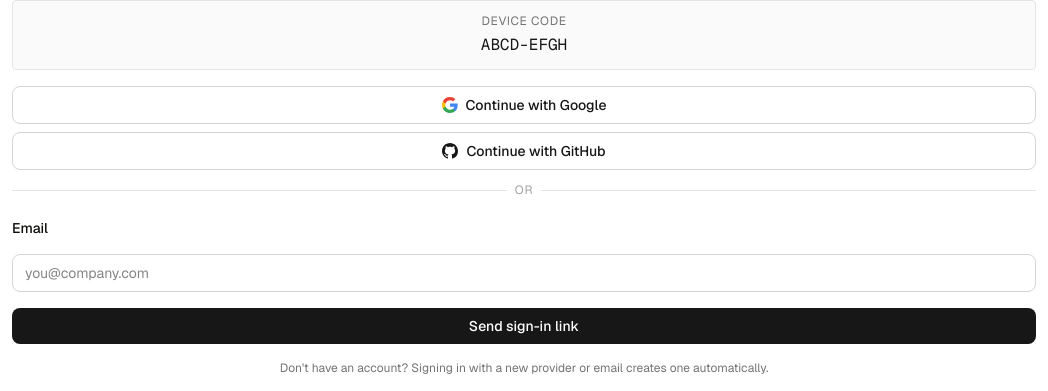
Test: AuthorizeDeviceClient — social sign-in handler › disables all sign-in surfaces while a social redirect is in flight
Click the button "Continue with Google" at x=524, y=105, box 12,86 -> 1036,124
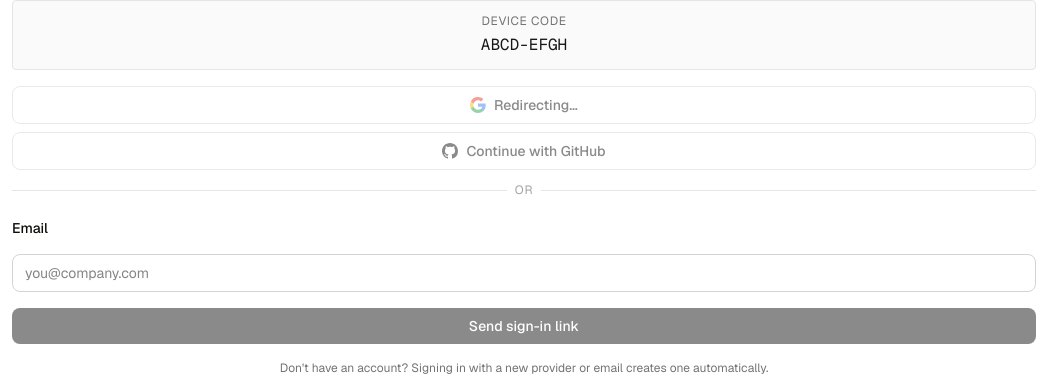
Now the button "Redirecting…" is disabled, box 12,86 -> 1036,124
Now the button "Continue with GitHub" is disabled, box 12,132 -> 1036,170
Now the button "Send sign-in link" is disabled, box 12,308 -> 1036,344
